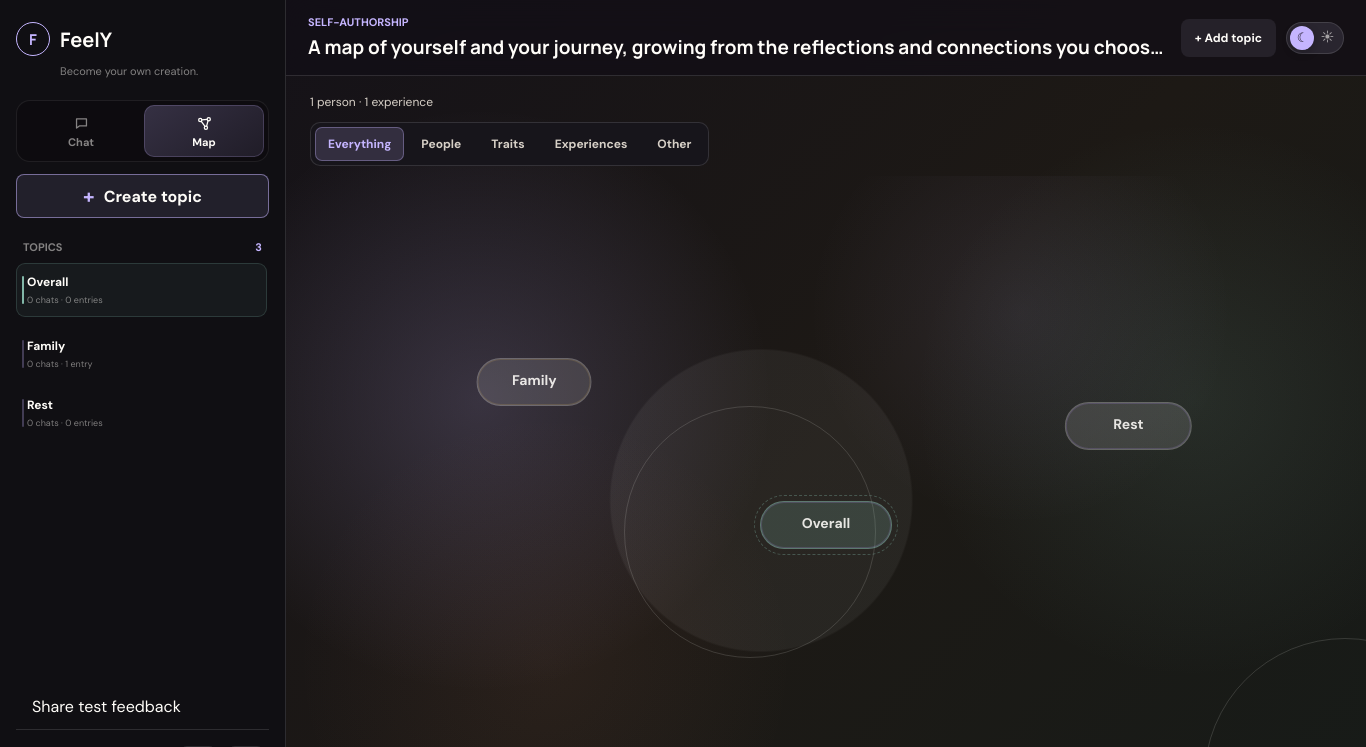
Test case: real My Map route/graph/forms › select, close, reopen, filters and empty type preserve selection semantics
Click the button with aria-label "Open Family". click: point(534, 382)
box: [477,358,592,406]
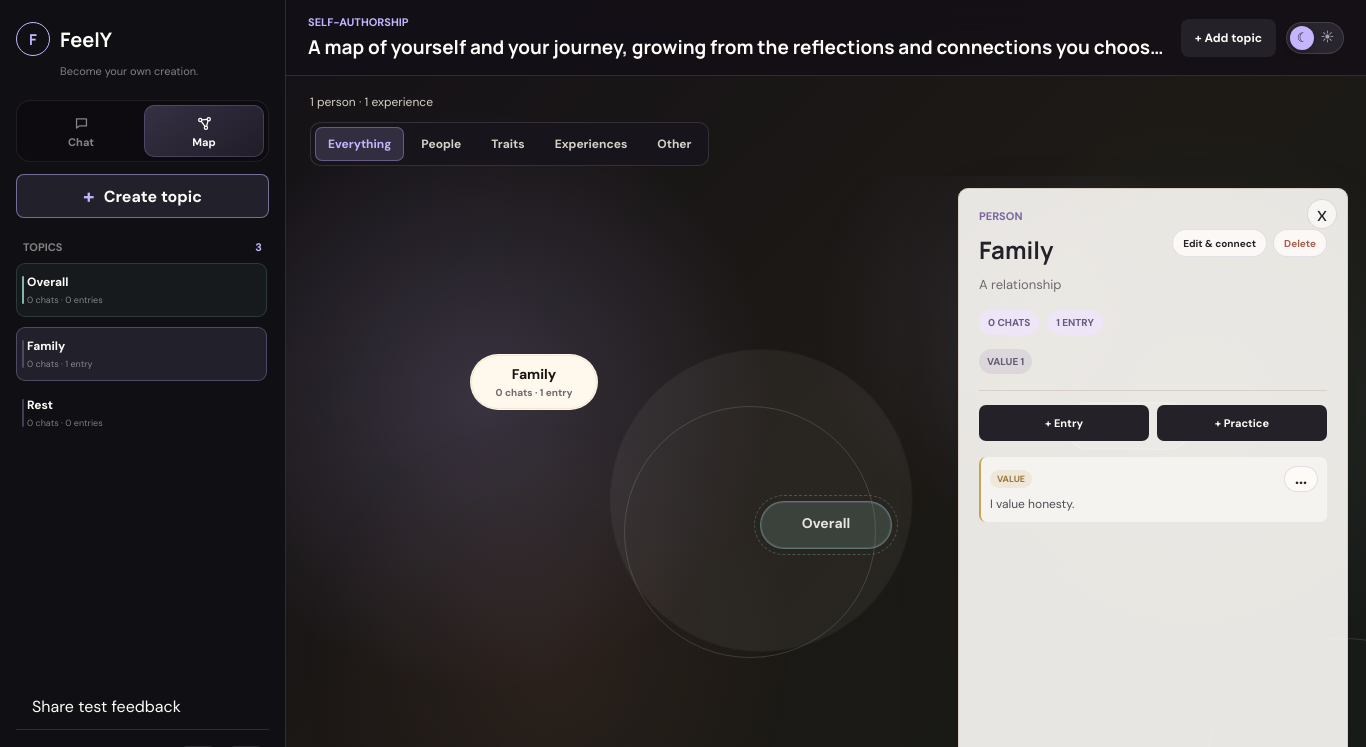
Check: the text "A relationship" is shown, box [979,276,1062,293]
Click the button named "Close thread details". click: point(1322, 214)
box: [1307,199,1337,229]
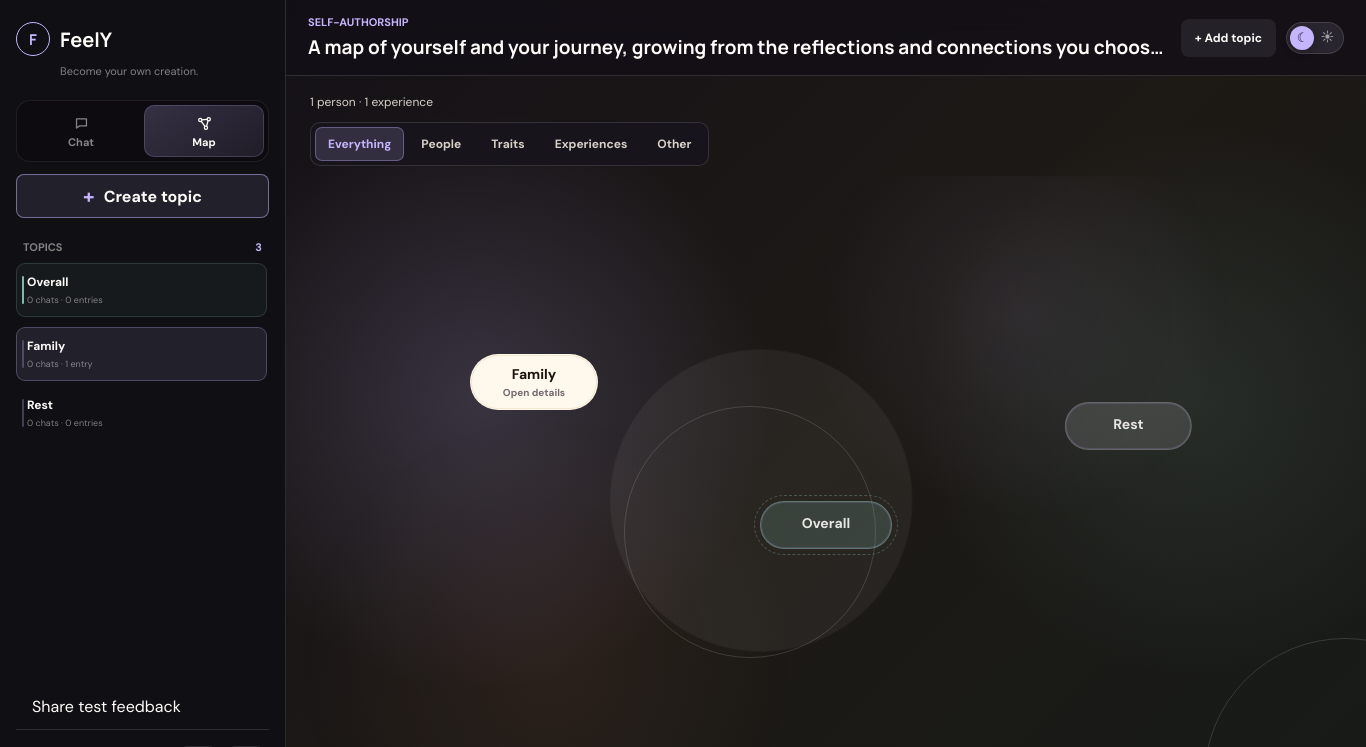
Check: the button with aria-label "Open Family" is pressed
Click the button with aria-label "Open Family". click: point(534, 382)
box: [470,354,598,410]
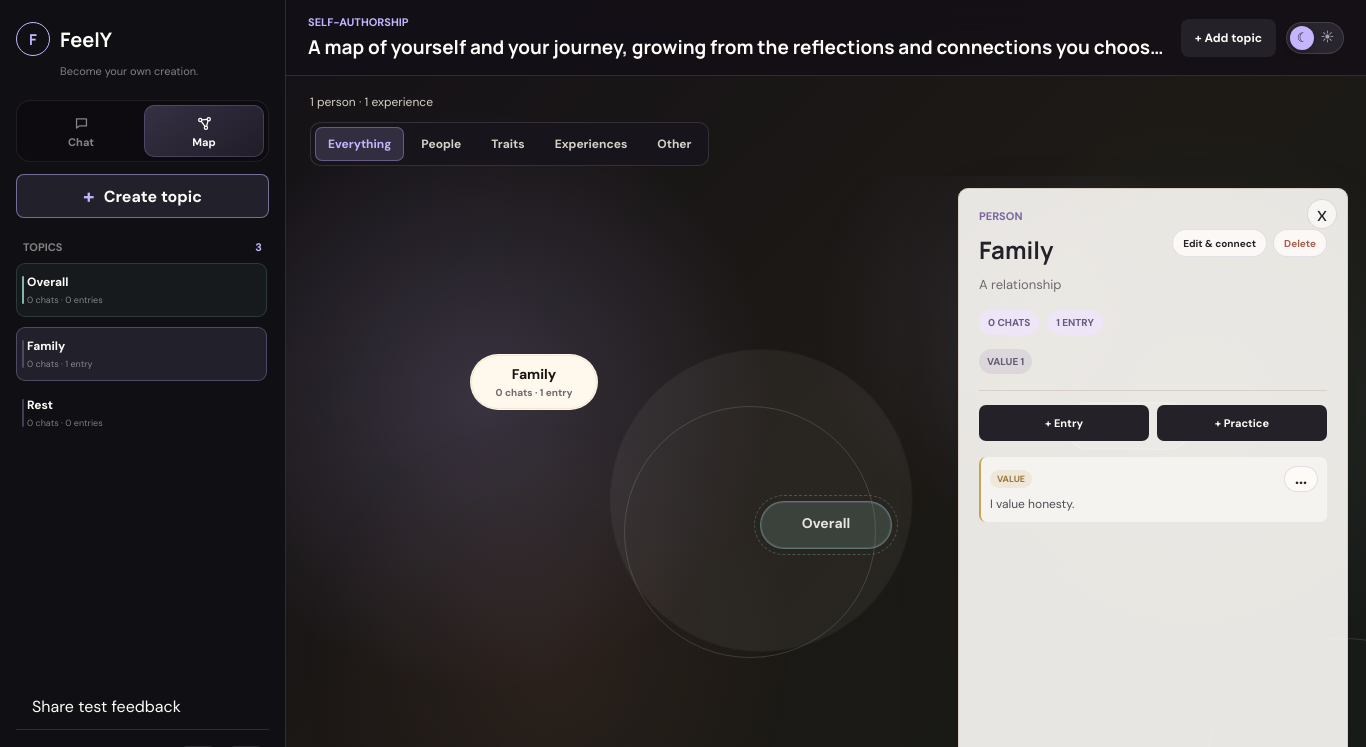
Click the button "Traits". click: point(508, 144)
box: [478,127,538,161]
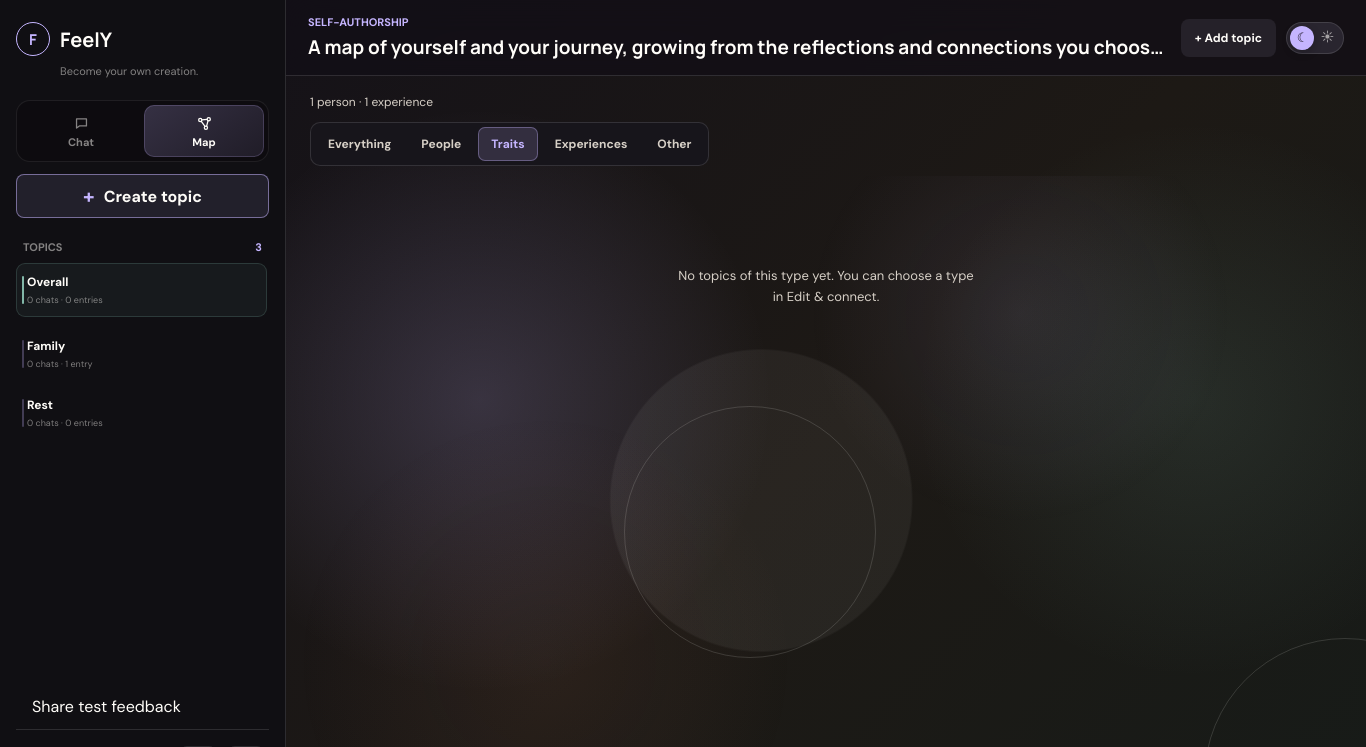
Check: the button "Open Family" is gone
Check: the text "No topics of this type yet. You can choose a type in Edit & connect." is shown, box [656,266,996,308]
Click the button "Everything". click: point(360, 144)
box: [315,127,404,161]
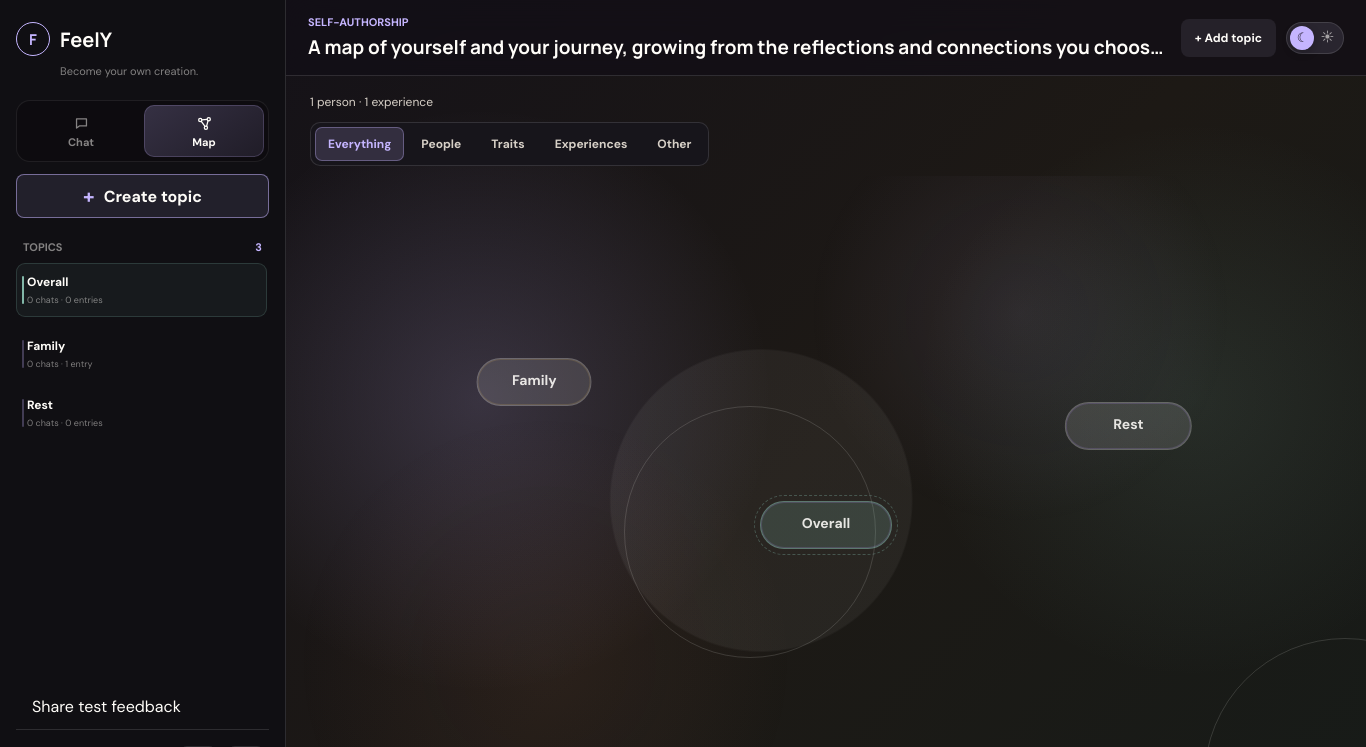
Check: the button with aria-label "Open Family" is not pressed, box [477,358,592,406]
